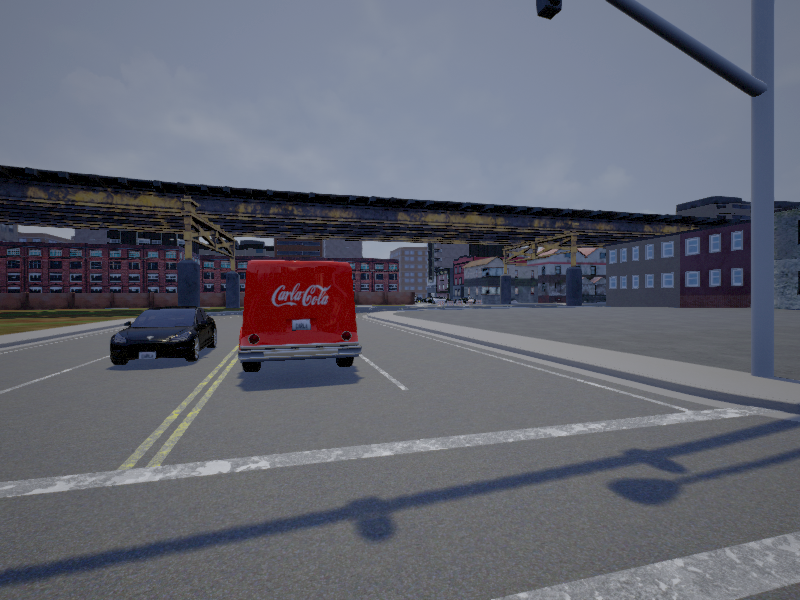Benign: (235, 259, 361, 370), (108, 306, 220, 359)
